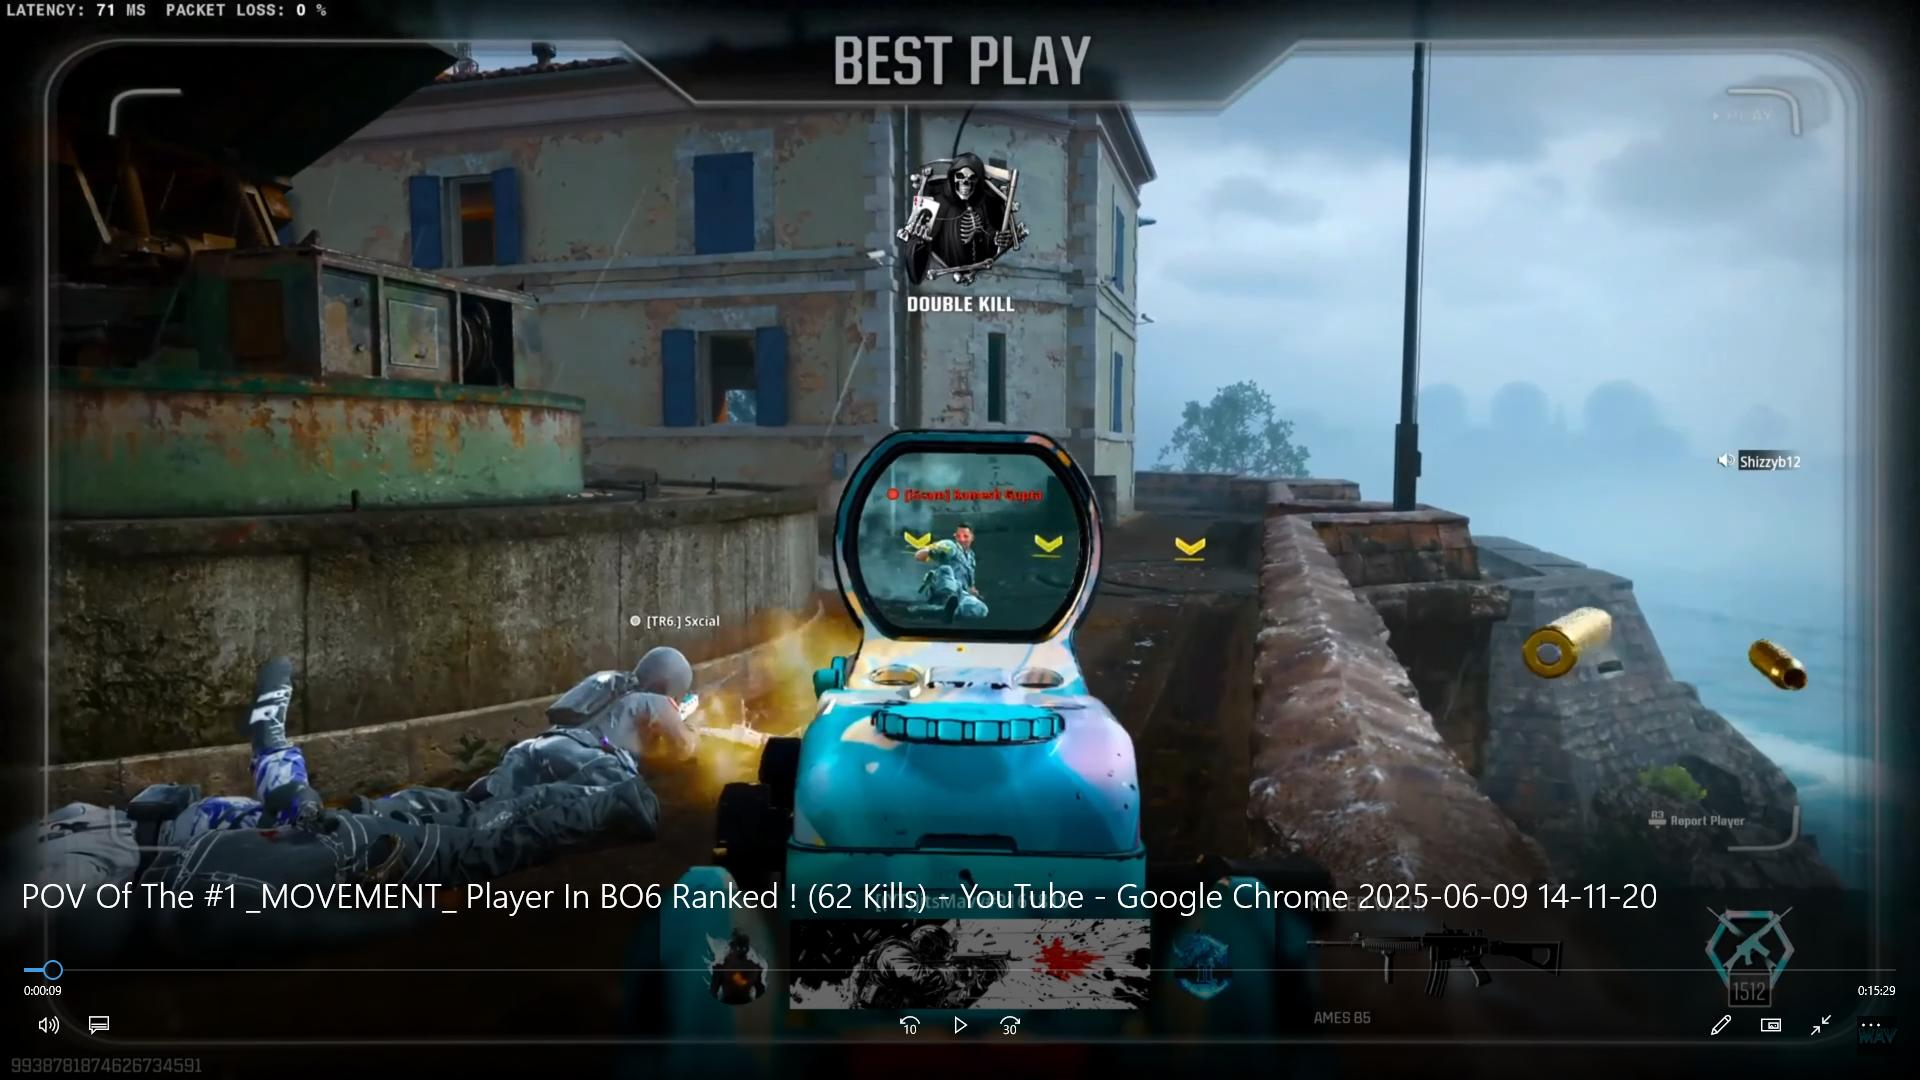Enemy: (451, 622, 725, 822), (923, 517, 990, 626)
